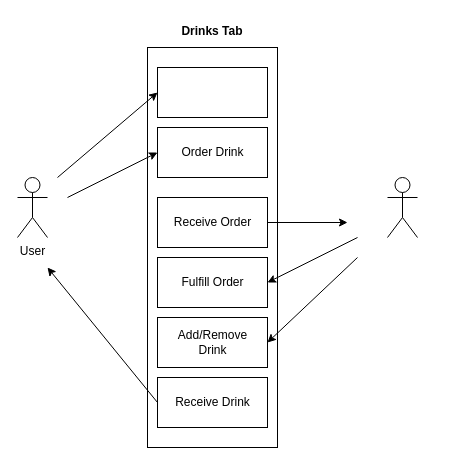
Image size: 455x465. Some labels were removed from this diagram. The shapes that lost their labels are listed below. From the top down, each one's box as (x1, y1, x2, y2) in pixels, then its label:
(156, 66, 268, 118): Authorize Drink
(386, 176, 418, 238): Drink Meister
